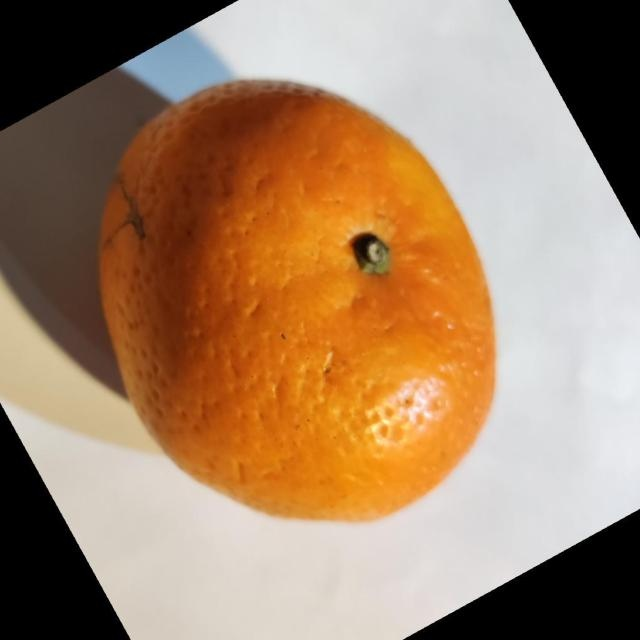agrume: (96, 77, 497, 523)
